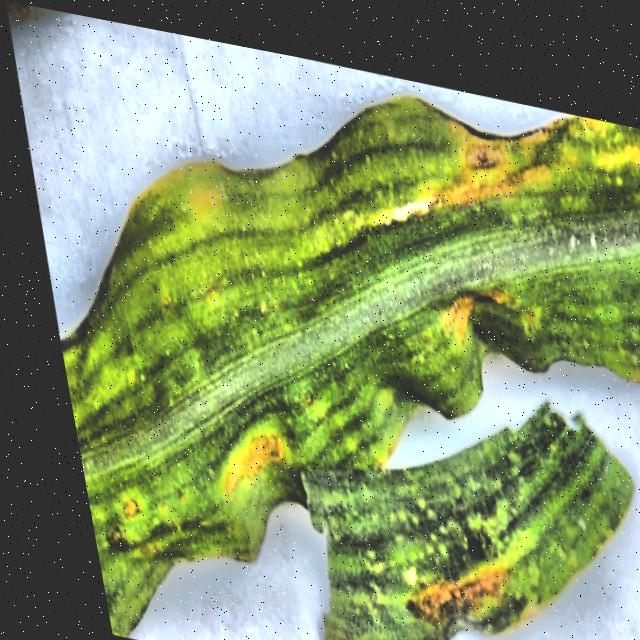blight: (42, 30, 640, 640)
